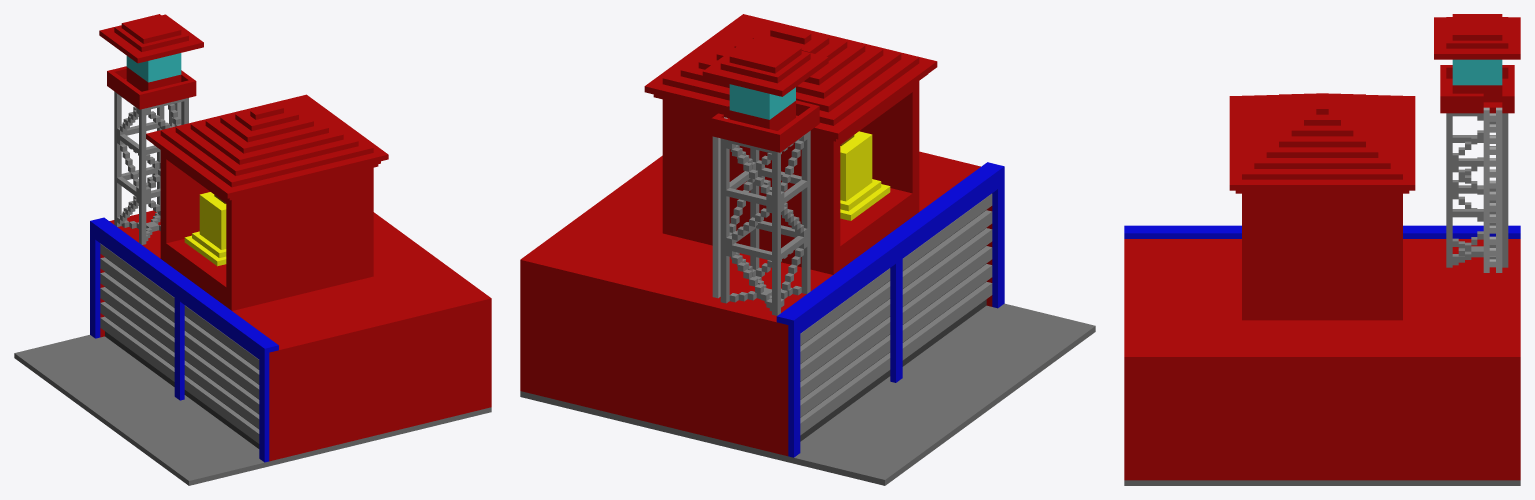
Rendered from damkar.obj.
The picture shows the model from 3 angles, left to right: view 1: azimuth 30°, elevation 25°; view 2: azimuth 150°, elevation 25°; view 3: azimuth 270°, elevation 25°; orthographic projection. The views are drawn at different scales.
Bounding box in the file's own units: 6.4 × 6.4 × 6.4.
1 material, 1 textured.
